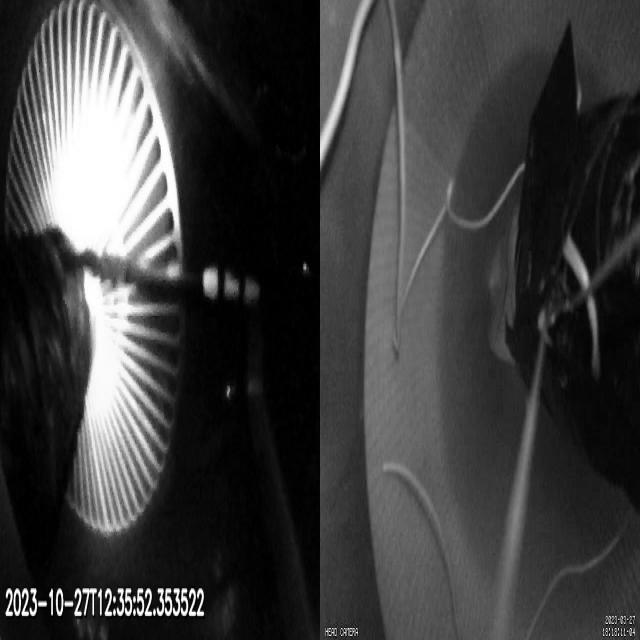white-dots: (202, 266, 259, 309)
